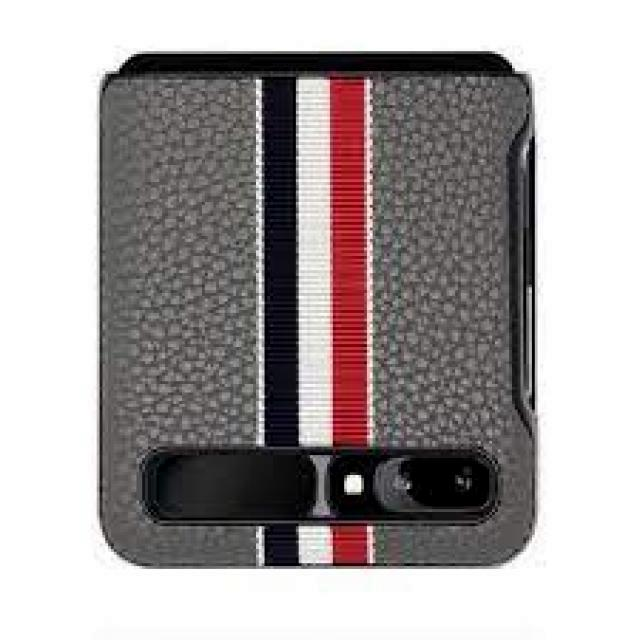lens_back: (402, 456, 494, 509)
